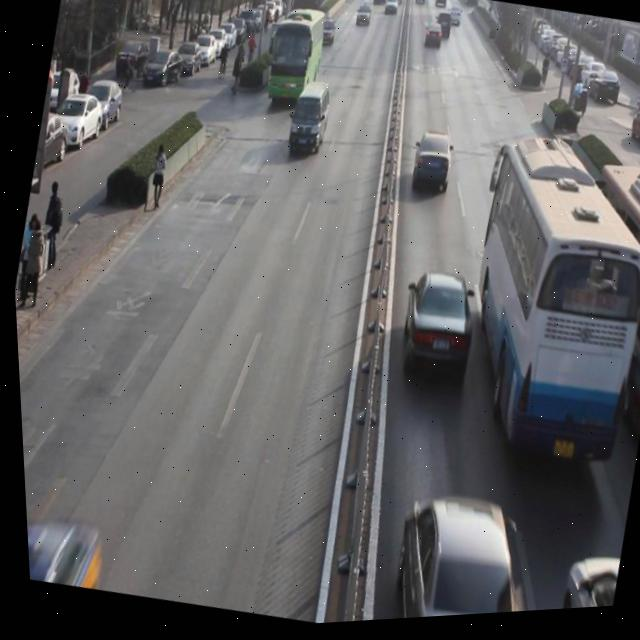car: (372, 483, 545, 624), (385, 270, 483, 399), (403, 131, 457, 199), (429, 12, 455, 47), (315, 18, 338, 53), (352, 4, 375, 36), (421, 25, 445, 55), (383, 0, 400, 19)
truck: (281, 77, 335, 165)
van: (434, 133, 640, 488), (542, 168, 640, 439), (257, 11, 328, 121)
